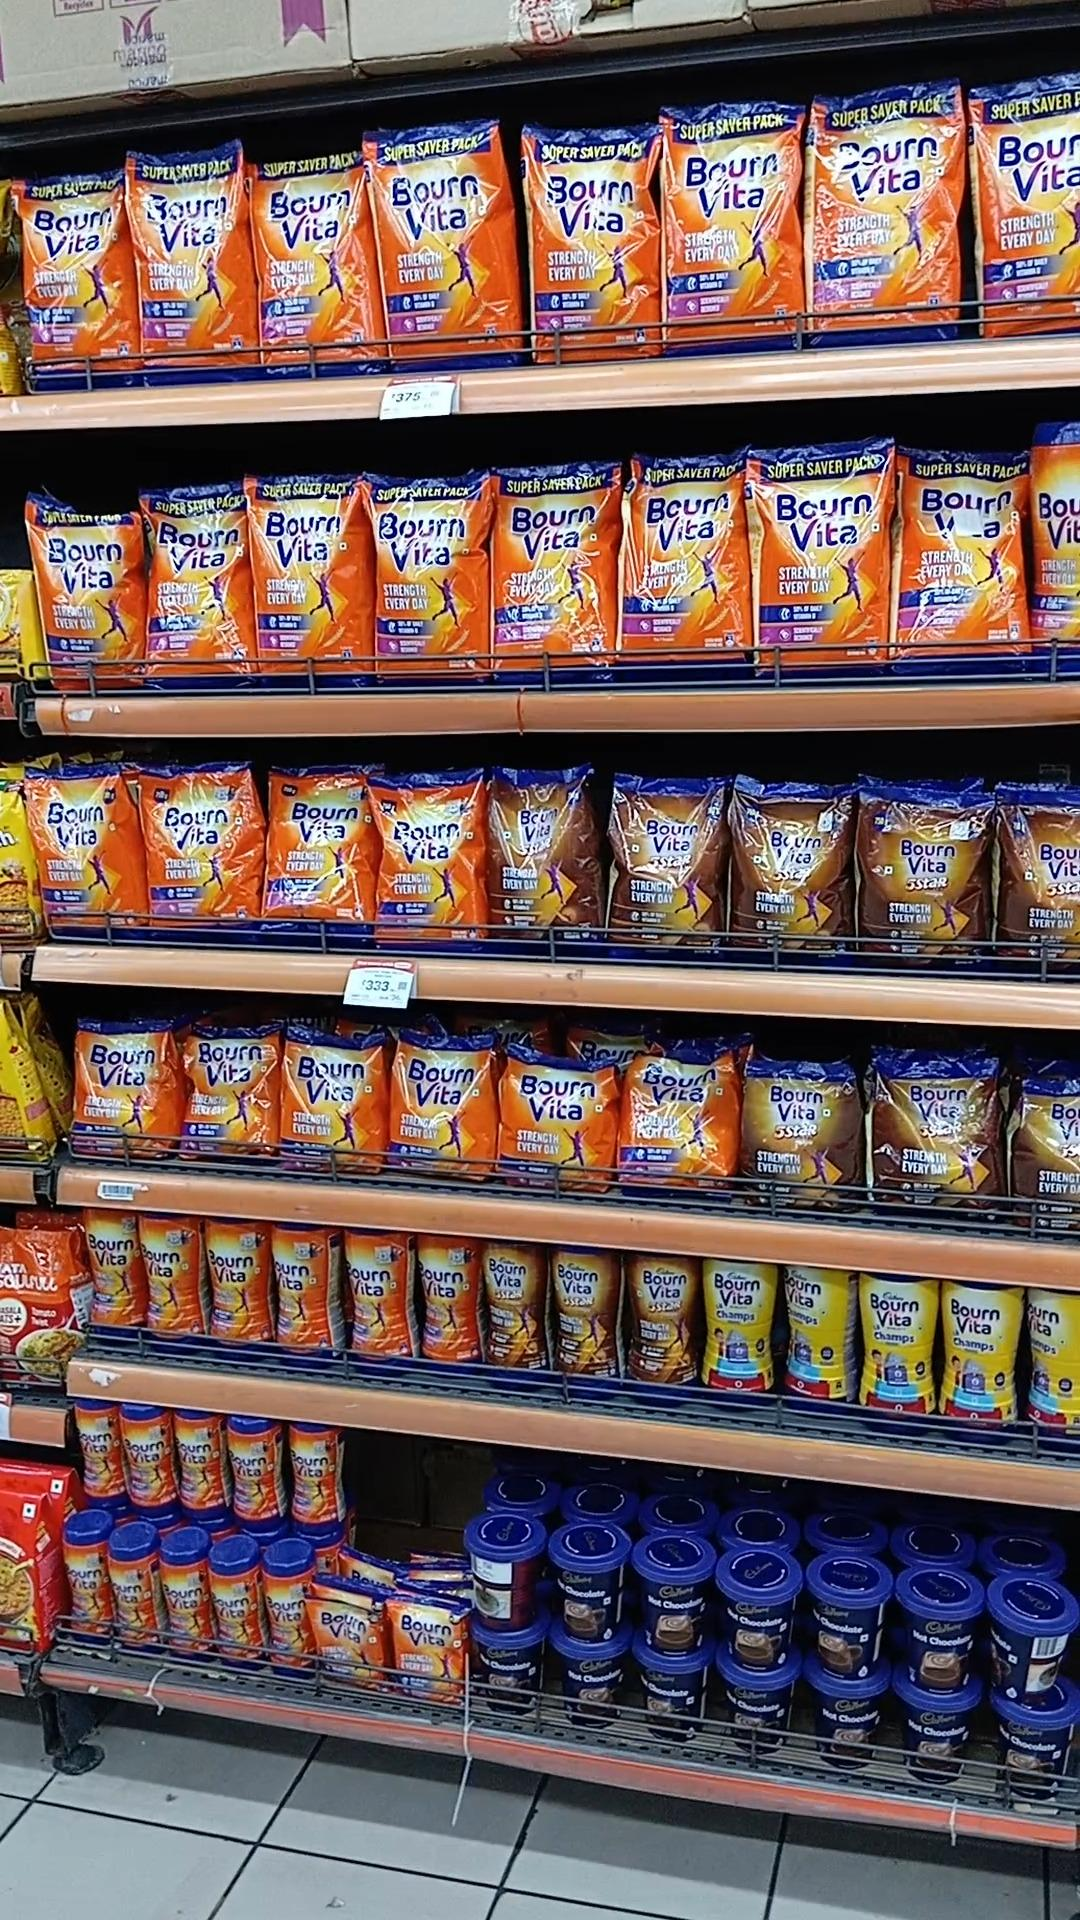BOURN_VITA_1_KG_POUCH: (810, 88, 952, 353), (661, 108, 796, 356), (376, 127, 509, 372), (750, 448, 886, 688), (895, 450, 1029, 679), (524, 129, 645, 361), (492, 468, 615, 695), (132, 146, 249, 382), (628, 459, 744, 694), (975, 80, 1080, 335), (257, 157, 369, 385), (371, 472, 484, 691), (255, 476, 371, 687), (20, 177, 129, 394), (32, 506, 144, 698), (150, 479, 245, 696)
BOURN_VITA_200_G_JAR: (158, 1531, 207, 1664), (212, 1548, 261, 1675), (265, 1551, 311, 1680), (225, 1416, 278, 1528), (286, 1420, 339, 1530), (57, 1522, 103, 1640), (123, 1404, 174, 1510), (111, 1536, 152, 1660), (177, 1411, 222, 1515), (76, 1399, 116, 1501)
BOURN_VITA_500_G_JAR: (347, 1228, 407, 1383), (142, 1203, 200, 1361), (204, 1217, 262, 1366), (418, 1236, 472, 1382), (82, 1211, 138, 1346), (273, 1224, 323, 1373)
BOURN_VITA_500_G_POUCH: (621, 1054, 729, 1209), (392, 1031, 495, 1195), (178, 1022, 280, 1185), (501, 1054, 616, 1195), (69, 1021, 170, 1163), (289, 1034, 384, 1185)
BOURN_VITA_750_G_POUCH: (364, 778, 483, 955), (261, 760, 365, 951), (132, 758, 237, 947), (29, 769, 129, 947)
BOURN_VITA_75_G_POUCH: (388, 1594, 465, 1706), (313, 1593, 378, 1696)
BOURN_VITA_CHAMPS_500_G_JAR: (940, 1275, 1019, 1445), (858, 1267, 931, 1436), (699, 1258, 773, 1416), (782, 1259, 845, 1416), (1027, 1283, 1080, 1441)
BOURN_VITA_FIVE_STAR_MAGIC_500_G_JAR: (629, 1251, 699, 1410), (550, 1245, 617, 1404), (480, 1238, 543, 1394)
BOURN_VITA_FIVE_STAR_MAGIC_500_G_POUCH: (874, 1044, 1001, 1228), (737, 1059, 861, 1217), (1011, 1073, 1080, 1240)
BOURN_VITA_FIVE_STAR_MAGIC_750_G_POUCH: (729, 777, 853, 968), (862, 785, 980, 976), (489, 760, 599, 961), (612, 775, 723, 968), (993, 787, 1080, 981)
